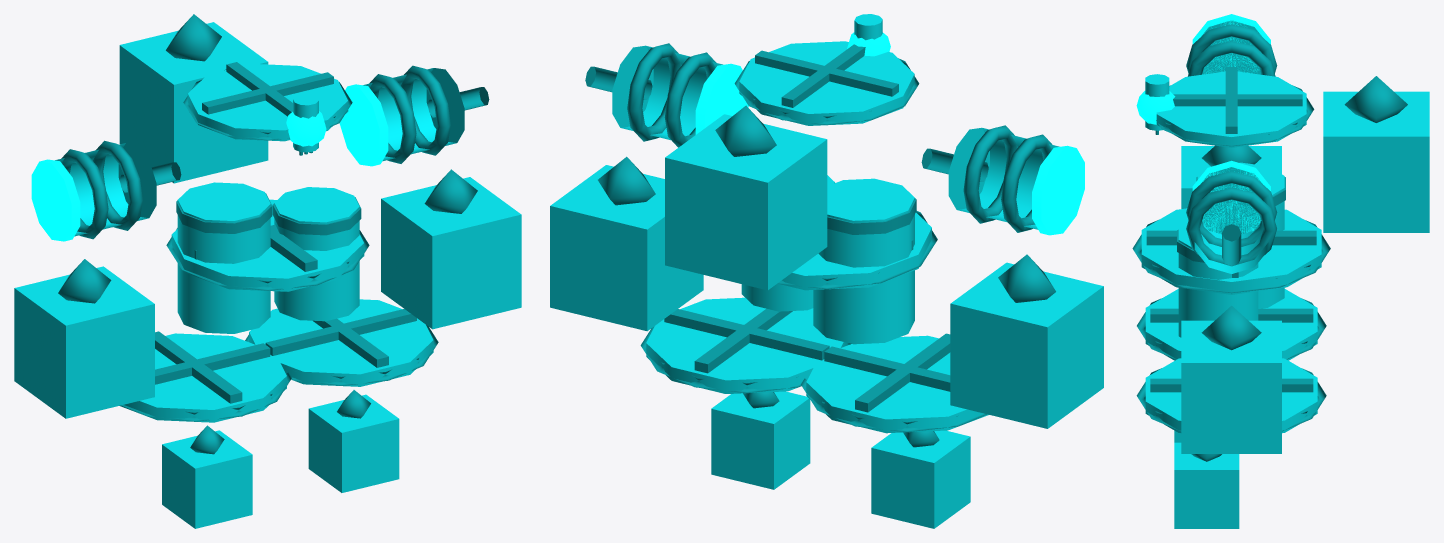
The model's file is golem_081.glb.
3 renders of one model, left to right at view 1: azimuth 30°, elevation 25°; view 2: azimuth 150°, elevation 25°; view 3: azimuth 270°, elevation 25°, orthographic. The views are drawn at different scales.
Parts seen in each view (by area): view 1: Body, Detail, Glow; view 2: Body, Detail, Glow; view 3: Body, Detail, Glow.
Part boxes in pixels (x1,y1,x2,y2): Body: (14,22,521,528); Detail: (58,14,489,454); Glow: (31,84,388,241); Body: (550,14,1103,528); Detail: (585,43,1055,447); Glow: (695,32,1084,235); Body: (1141,20,1429,528); Detail: (1132,24,1407,461); Glow: (1136,14,1270,233).
Bounding box in the file's own units: 1.16 × 1 × 0.6683.
